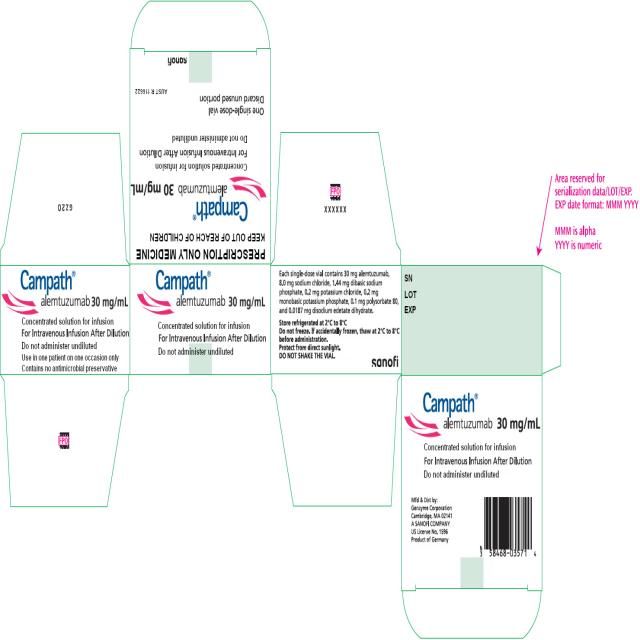Artwork: (0, 0, 640, 640)
Back_Panel: (402, 376, 542, 592)
Bottom_Part: (130, 264, 270, 375)
Extra_Areas: (272, 131, 402, 266), (271, 374, 401, 508), (0, 131, 129, 265), (0, 374, 129, 507), (402, 591, 542, 640), (131, 0, 270, 49), (542, 265, 562, 375)
Front_Panel: (130, 48, 271, 264)
Side_Panel: (271, 265, 402, 373), (0, 266, 130, 374)
Top_Panel: (402, 265, 542, 375)
